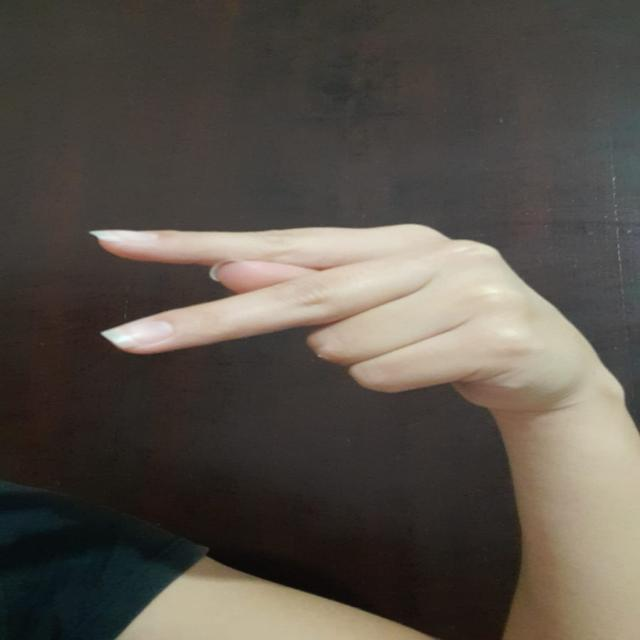P: (53, 214, 616, 408)
